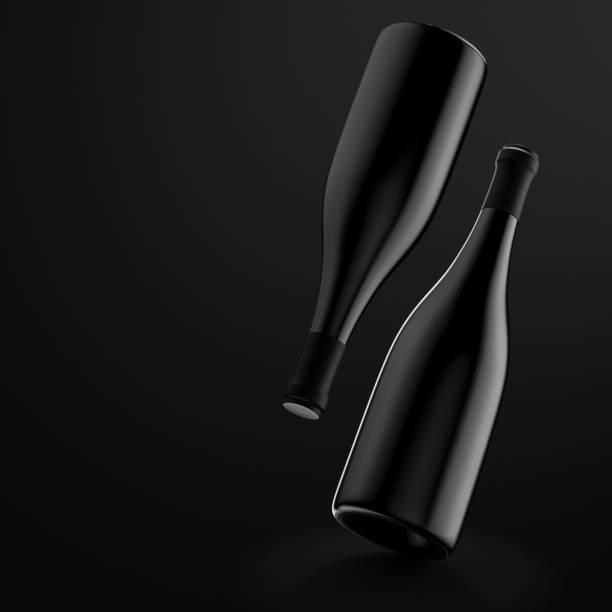bottle-glass: (327, 142, 544, 560), (284, 14, 491, 440)
